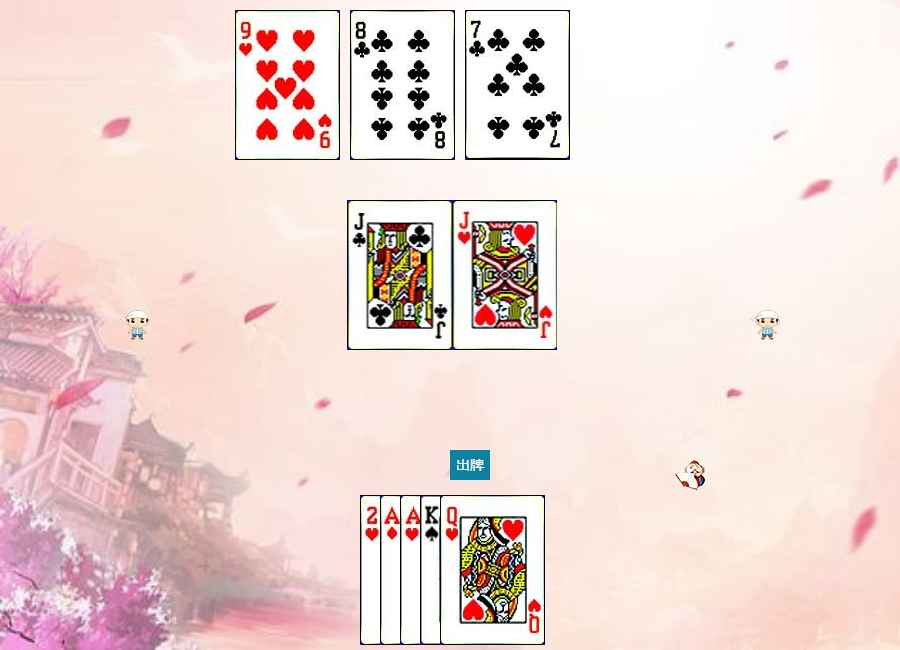11~2: (348, 200, 453, 350)
11~3: (453, 200, 558, 350)
12~3: (440, 495, 545, 645)
13~4: (420, 495, 525, 645)
14~1: (380, 495, 485, 645)
14~3: (400, 495, 505, 645)
15~3: (360, 495, 465, 645)
7~2: (465, 10, 570, 160)
8~2: (350, 10, 455, 160)
9~3: (235, 10, 340, 160)
